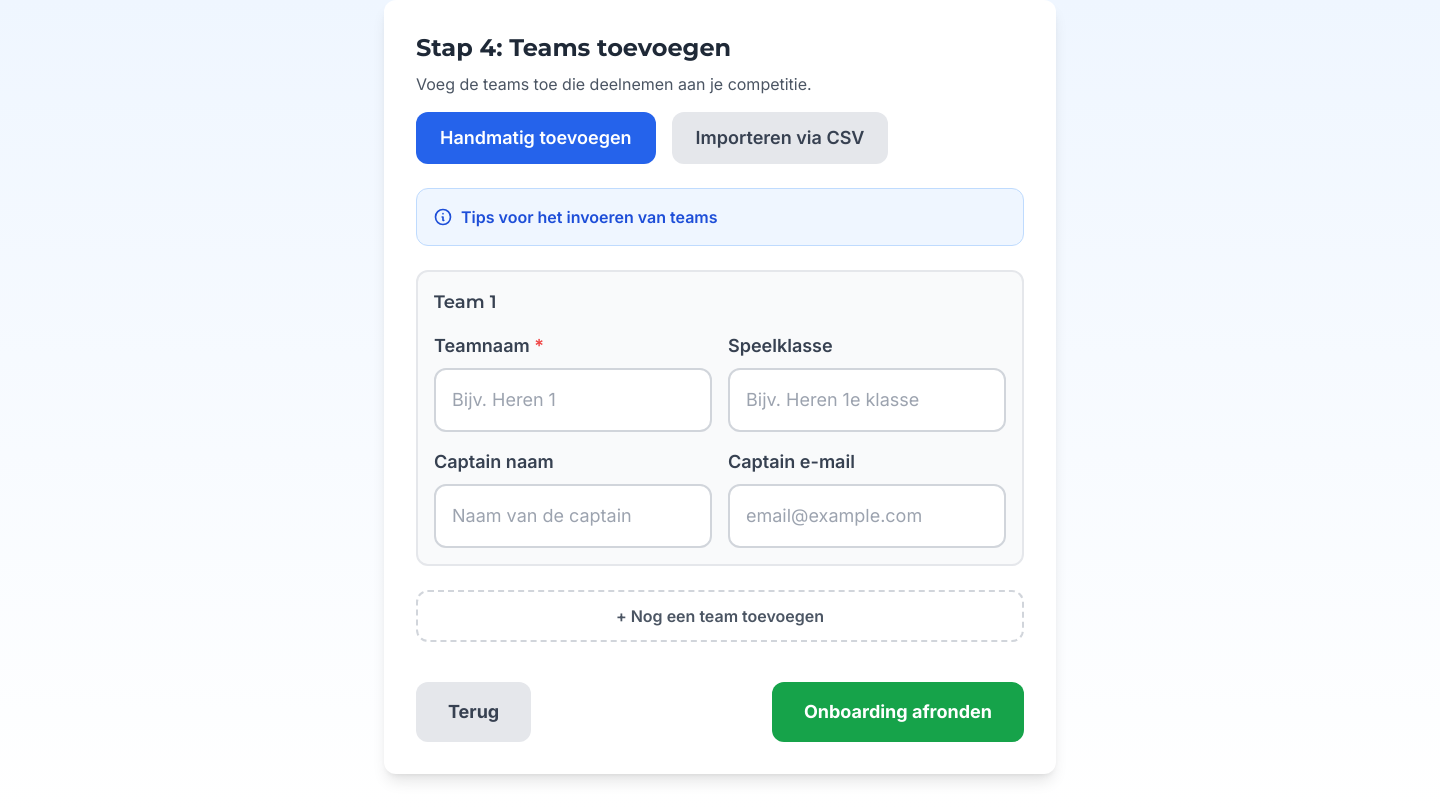
Scenario: TeamsStep › Validation › should clear validation error when user types in team name
The width and height of the screenshot is (1440, 810).
Click the button "Onboarding afronden". click: (898, 712)
box: [772,682,1024,742]
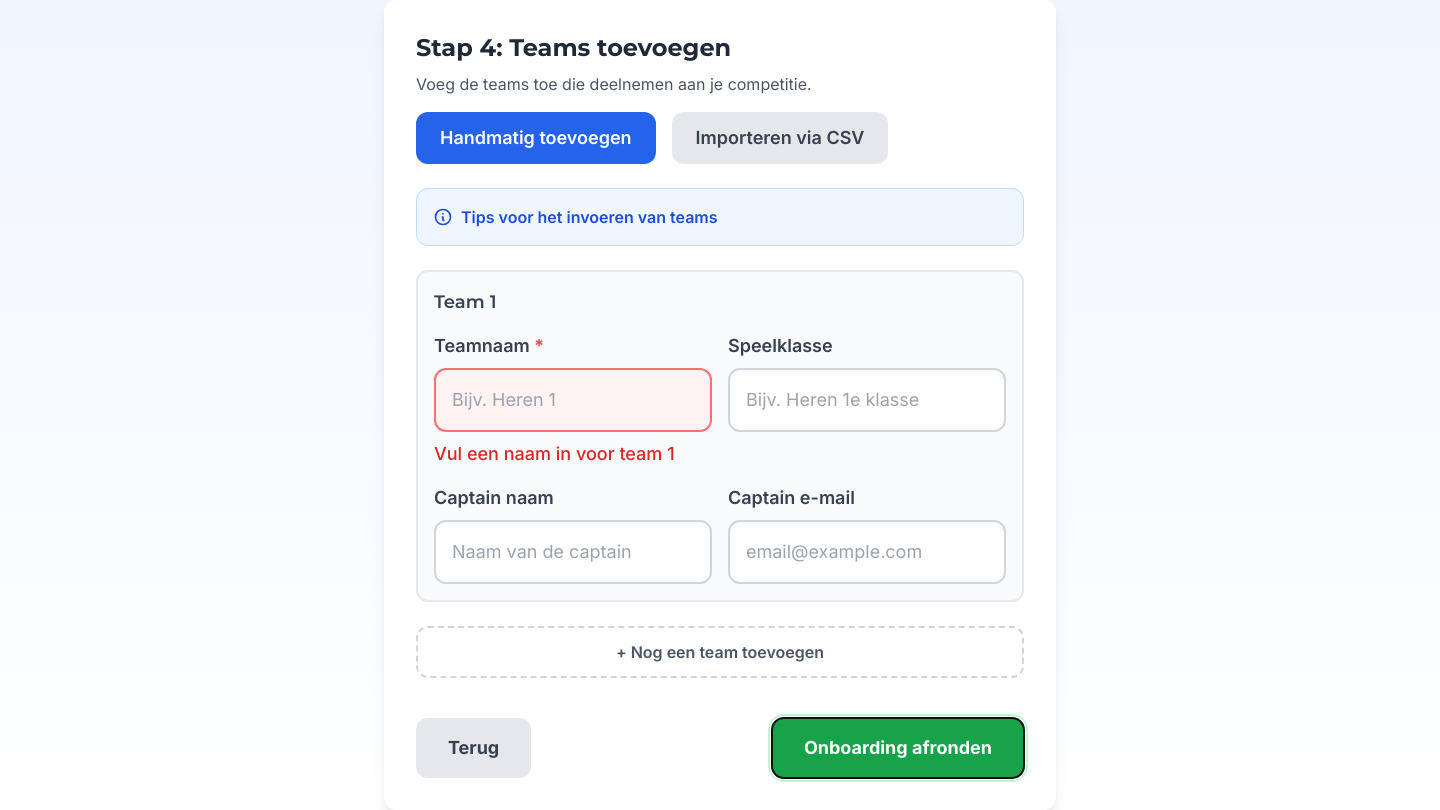
Result: the text "Vul een naam in voor team 1" is shown at [434,440,712,468]
Type "Test Team" into the field labelled "Teamnaam *". click: (573, 400)
box: [434,368,712,432]
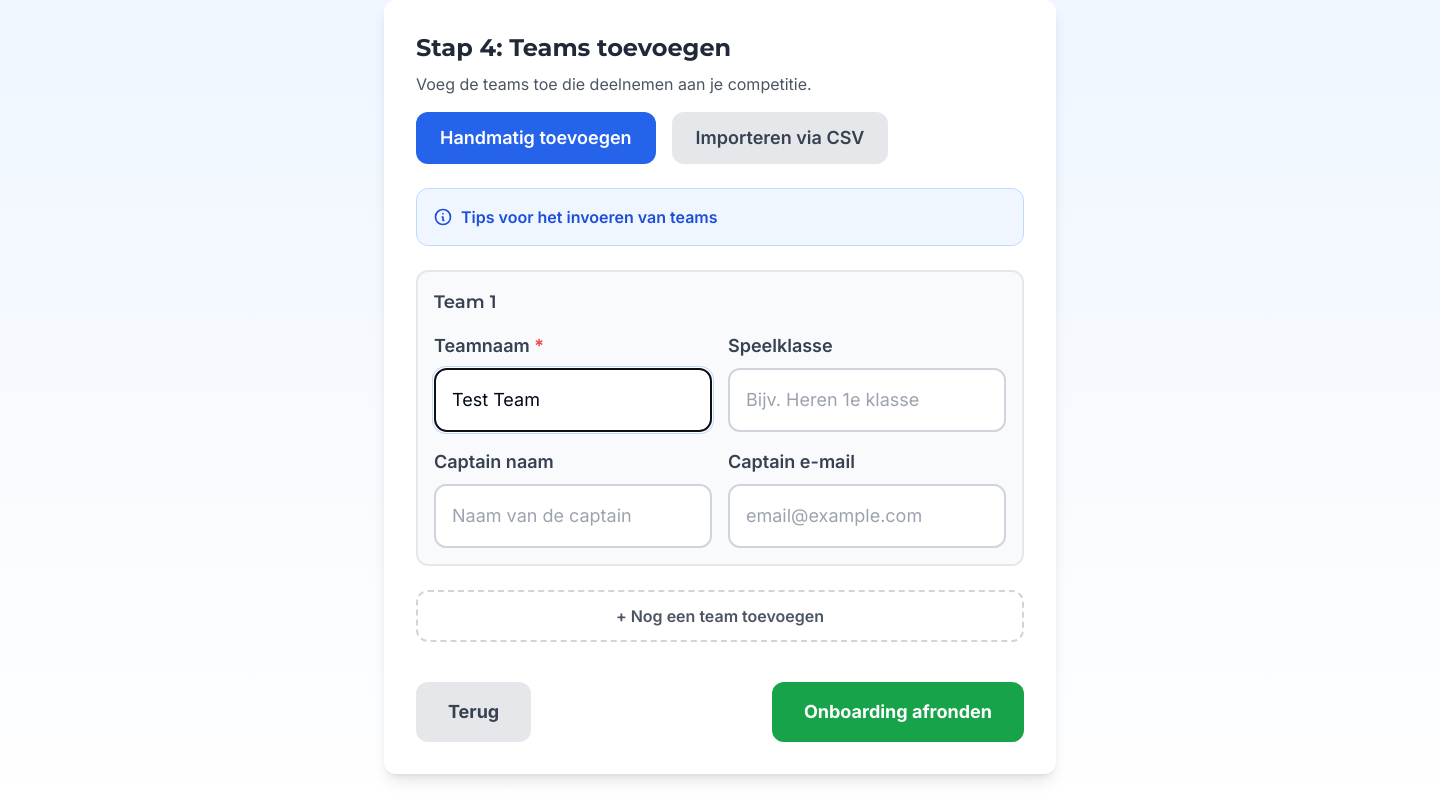
Result: the text "Vul een naam in voor team 1" is gone
